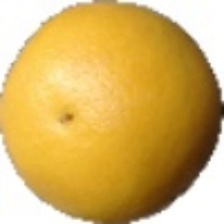grapes: (25, 27, 184, 192)
